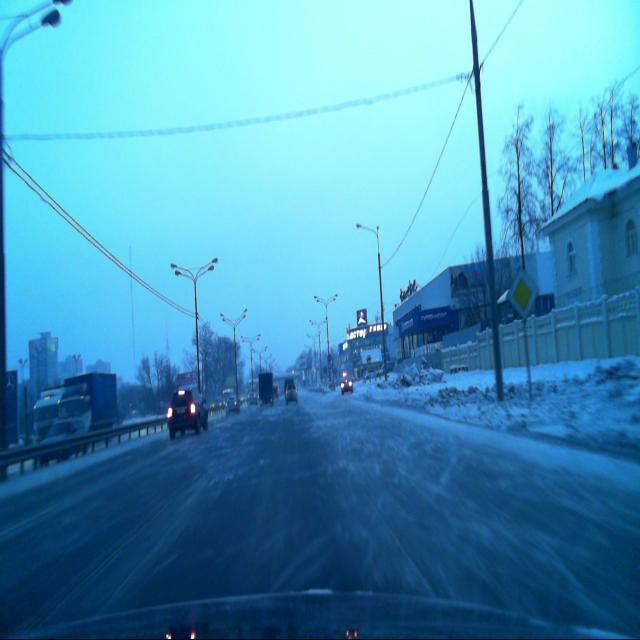object: (524, 324, 533, 405)
road sign: (510, 270, 538, 321)
